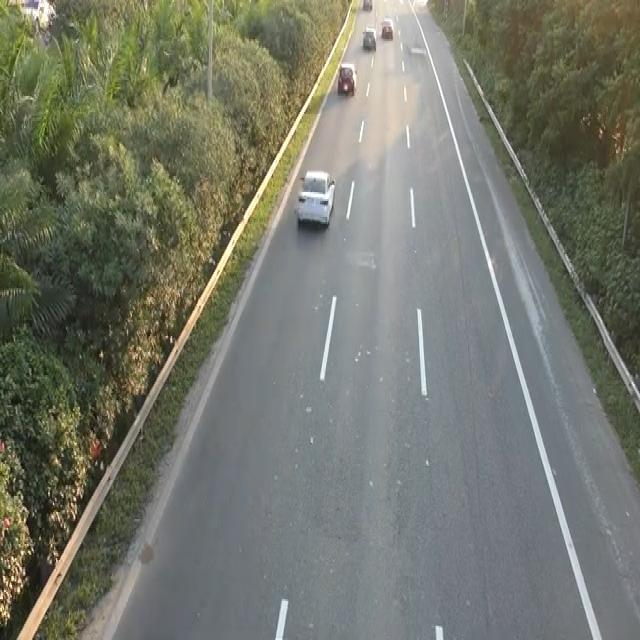bus: (294, 165, 339, 235), (336, 60, 357, 96), (361, 25, 377, 51)
